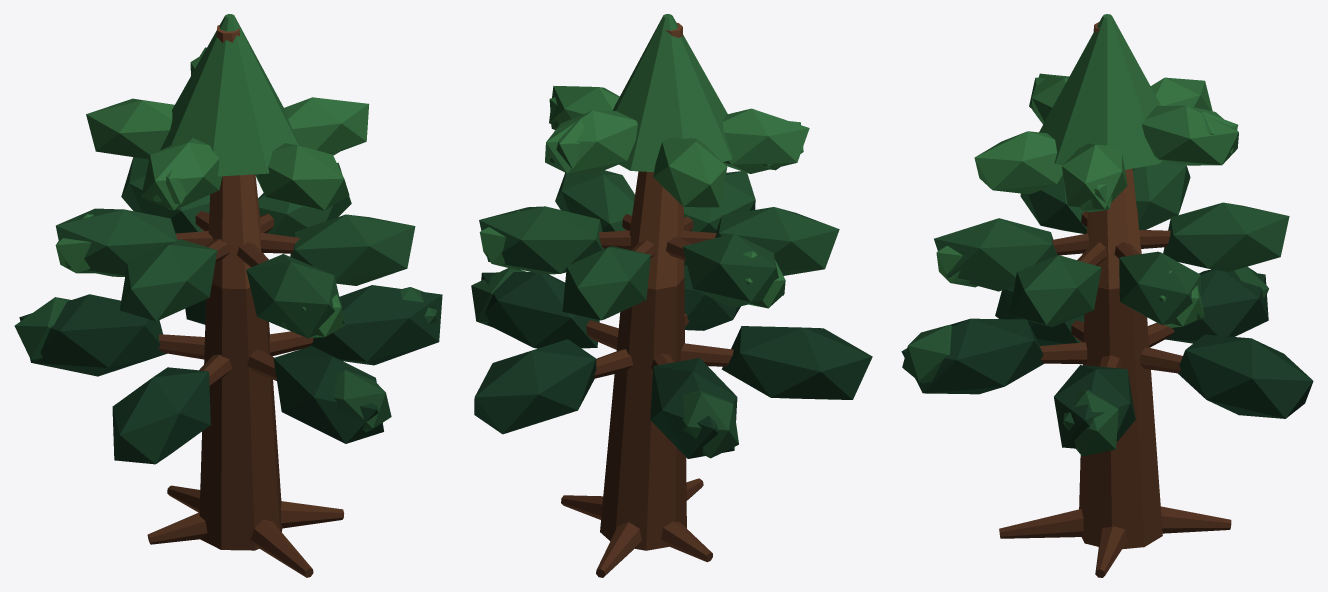
Rendered from tree_pine_b.glb.
3 renders of one model, left to right at view 1: azimuth 30°, elevation 25°; view 2: azimuth 150°, elevation 25°; view 3: azimuth 270°, elevation 25°, orthographic. The views are drawn at different scales.
Visible parts, largest first — view 1: Trunk_Lower.001, Leader_Needles.001, Needles_1_4.001, Needles_1_3.001, Needles_1_1.001, Needles_2_6, Needles_1_5.001, Needles_2_4.001, Needles_2_5.001, Needles_2_3.001, Trunk_Upper.001, Needles_3_4.001 (+18 smaller); view 2: Trunk_Lower.001, Leader_Needles.001, Needles_1_4.001, Needles_1_2.001, Needles_2_1.001, Needles_1_1.001, Needles_2_3.001, Needles_2_2.001, Needles_2_4.001, Needles_1_3.001, Trunk_Upper.001, Needles_3_3.001 (+18 smaller); view 3: Trunk_Lower.001, Leader_Needles.001, Needles_1_2.001, Needles_2_2.001, Needles_1_5.001, Needles_2_5.001, Needles_2_6, Needles_3_1.001, Needles_2_1.001, Needles_1_3.001, Needles_3_4.001, Needles_1_1.001 (+18 smaller).
Boxes of the visible parts, bbox=[...] form: Trunk_Lower.001: bbox=[199, 283, 282, 550]; Leader_Needles.001: bbox=[160, 14, 300, 176]; Needles_1_4.001: bbox=[112, 367, 210, 464]; Needles_1_3.001: bbox=[19, 294, 166, 376]; Needles_1_1.001: bbox=[309, 285, 442, 365]; Needles_2_6: bbox=[290, 214, 415, 285]; Needles_1_5.001: bbox=[273, 346, 383, 443]; Needles_2_4.001: bbox=[120, 239, 217, 321]; Needles_2_5.001: bbox=[246, 254, 344, 338]; Needles_2_3.001: bbox=[56, 208, 177, 276]; Trunk_Upper.001: bbox=[208, 25, 263, 288]; Needles_3_4.001: bbox=[255, 143, 349, 210]; Trunk_Lower.001: bbox=[600, 277, 686, 550]; Leader_Needles.001: bbox=[613, 14, 732, 172]; Needles_1_4.001: bbox=[721, 326, 872, 399]; Needles_1_2.001: bbox=[474, 339, 596, 434]; Needles_2_1.001: bbox=[479, 206, 603, 274]; Needles_1_1.001: bbox=[481, 272, 599, 348]; Needles_2_3.001: bbox=[682, 233, 783, 308]; Needles_2_2.001: bbox=[562, 246, 650, 320]; Needles_2_4.001: bbox=[715, 207, 839, 275]; Needles_1_3.001: bbox=[650, 358, 737, 458]; Trunk_Upper.001: bbox=[627, 23, 684, 289]; Needles_3_3.001: bbox=[722, 108, 809, 173]; Trunk_Lower.001: bbox=[1079, 287, 1162, 549]; Leader_Needles.001: bbox=[1039, 14, 1162, 169]; Needles_1_2.001: bbox=[1178, 334, 1313, 418]; Needles_2_2.001: bbox=[1163, 202, 1289, 271]; Needles_1_5.001: bbox=[901, 318, 1043, 394]; Needles_2_5.001: bbox=[934, 218, 1057, 291]; Needles_2_6: bbox=[1009, 255, 1101, 327]; Needles_3_1.001: bbox=[1141, 105, 1238, 165]; Needles_2_1.001: bbox=[1119, 251, 1201, 324]; Needles_1_3.001: bbox=[1165, 269, 1268, 343]; Needles_3_4.001: bbox=[974, 131, 1063, 194]; Needles_1_1.001: bbox=[1054, 365, 1135, 451].
Size of the model in its own units: 3.44 by 4.74 by 3.47.
